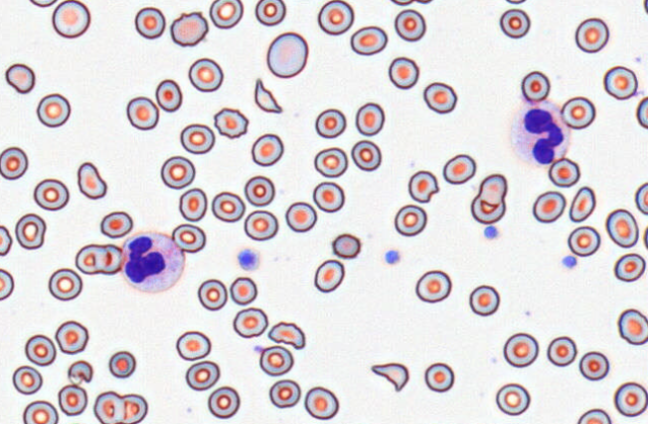GRAN: (507, 99, 570, 166), (121, 231, 186, 293)
PLT: (238, 248, 263, 272), (385, 250, 401, 266), (484, 225, 499, 240), (561, 255, 577, 269)
RBC: (266, 31, 308, 78), (470, 173, 507, 224), (93, 390, 147, 424), (75, 243, 122, 275), (51, 0, 90, 38), (170, 11, 208, 46), (605, 208, 638, 248), (317, 0, 354, 35), (613, 381, 648, 417), (574, 17, 609, 53), (188, 57, 223, 92), (503, 332, 538, 367), (603, 65, 638, 100), (415, 269, 451, 303), (160, 155, 195, 189), (54, 320, 88, 354), (36, 93, 70, 127), (560, 96, 595, 129), (495, 383, 530, 416), (33, 178, 69, 210), (15, 212, 46, 249), (617, 308, 648, 345), (126, 96, 159, 130), (48, 267, 82, 300), (304, 386, 338, 419), (232, 307, 268, 338), (350, 25, 387, 55), (207, 385, 240, 418), (532, 190, 565, 223), (423, 81, 457, 113), (185, 360, 220, 391), (180, 123, 215, 154), (213, 107, 248, 138), (243, 209, 278, 240), (175, 330, 211, 360), (251, 133, 283, 166), (567, 225, 600, 257), (211, 191, 245, 222), (259, 345, 293, 376), (442, 153, 476, 184), (24, 334, 56, 366), (394, 204, 426, 236), (394, 9, 426, 41), (388, 56, 419, 89), (134, 6, 165, 39), (314, 146, 347, 177), (171, 223, 205, 253), (285, 201, 317, 232), (312, 181, 344, 212), (314, 259, 344, 292), (209, 0, 243, 29), (178, 187, 207, 221), (355, 102, 384, 136), (244, 175, 275, 206), (57, 384, 87, 416), (197, 278, 227, 310), (548, 157, 580, 187), (314, 108, 346, 138), (351, 139, 381, 171), (469, 284, 499, 316), (613, 252, 645, 282), (0, 146, 28, 180), (547, 335, 577, 366), (499, 8, 530, 38), (521, 70, 550, 102), (100, 210, 133, 238), (155, 78, 182, 112), (12, 365, 42, 395), (579, 351, 609, 381), (424, 362, 454, 392), (269, 379, 300, 408), (22, 400, 58, 424), (254, 0, 286, 26), (229, 276, 257, 305), (108, 350, 135, 378), (331, 233, 360, 258), (576, 408, 611, 424), (634, 182, 648, 215), (0, 268, 14, 300), (636, 96, 648, 129), (0, 224, 12, 256), (29, 0, 57, 7), (643, 223, 648, 250), (389, 0, 413, 5), (505, 0, 526, 4), (414, 0, 434, 4), (643, 0, 648, 14)
Schistocyte: (369, 359, 412, 394), (76, 161, 109, 200), (268, 320, 308, 350), (254, 76, 283, 116), (408, 169, 440, 204), (4, 62, 36, 95), (569, 185, 596, 223), (67, 361, 94, 386)
